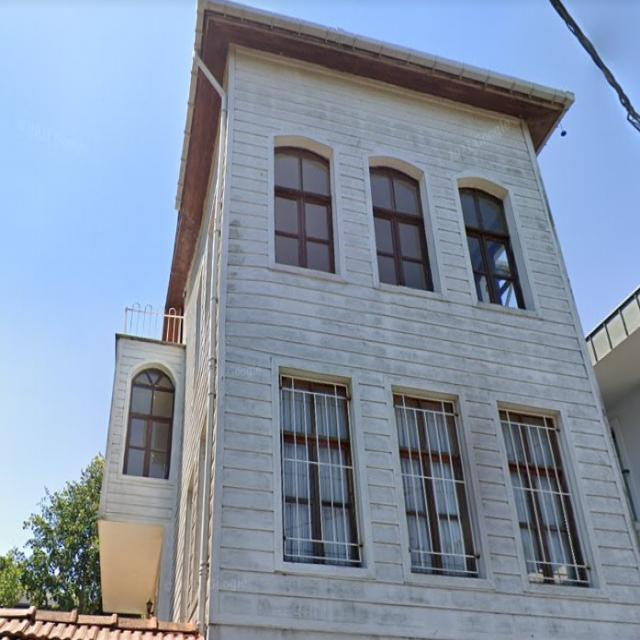Building: (98, 0, 640, 640)
